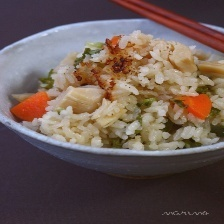rice: (12, 30, 223, 151)
